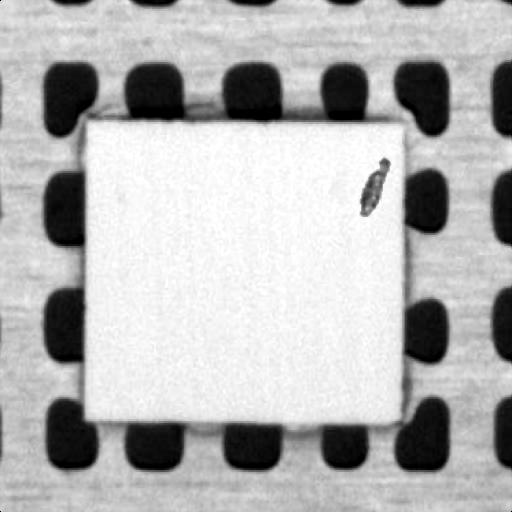DIE_INK: (357, 151, 392, 217)
